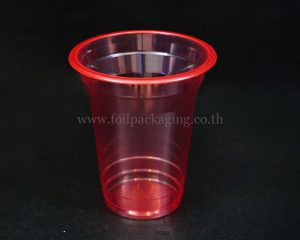plastic_glass: (66, 28, 221, 225)
